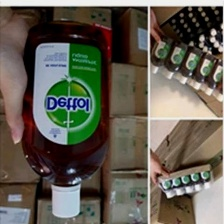book: (152, 118, 224, 197), (44, 3, 115, 70), (0, 110, 45, 188), (96, 59, 153, 117), (103, 112, 155, 175), (99, 169, 153, 224), (140, 178, 201, 223), (112, 8, 152, 68), (30, 192, 104, 224)
cleaning_solution: (17, 19, 113, 219), (175, 42, 204, 84), (160, 37, 187, 81), (188, 52, 219, 90), (147, 33, 173, 75), (200, 58, 223, 96), (157, 172, 175, 200), (178, 167, 195, 194), (169, 170, 186, 197), (196, 165, 212, 190), (187, 167, 203, 191)
